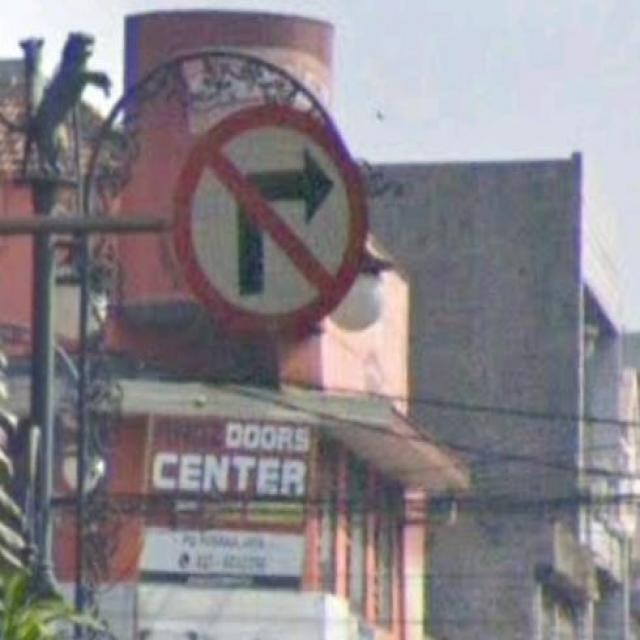traffic sign: (174, 105, 366, 340)
